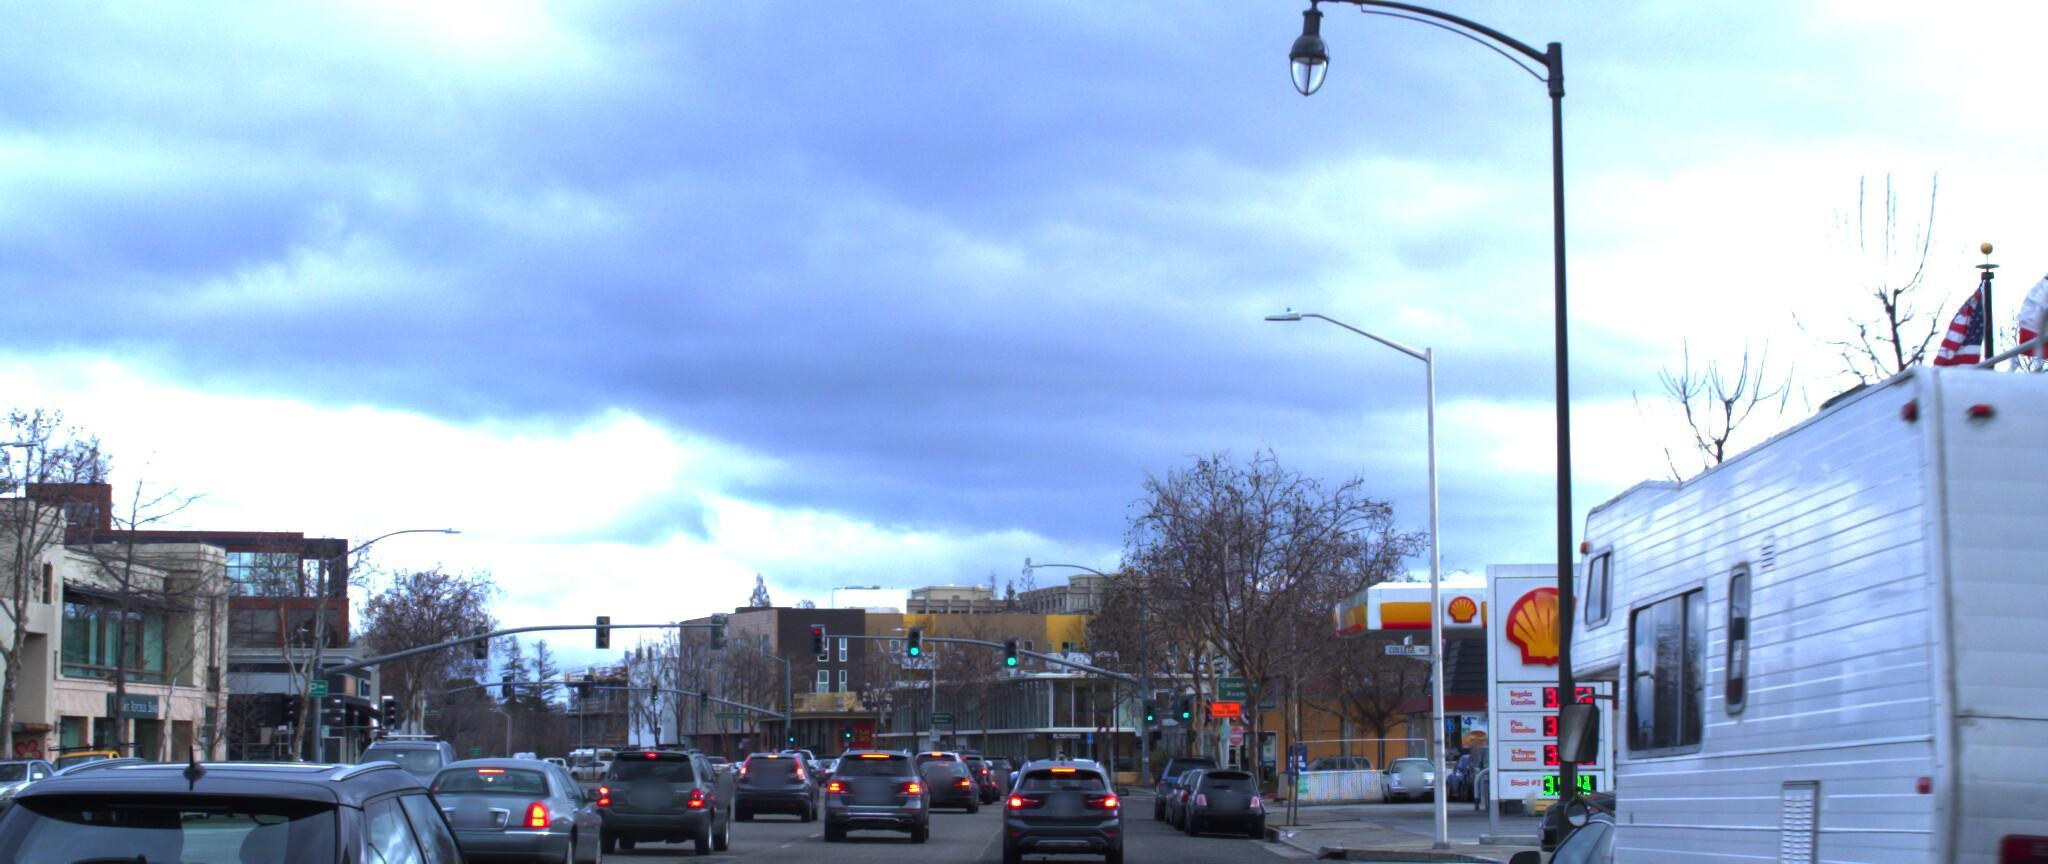car: (1509, 228, 2048, 864), (0, 744, 577, 864), (1451, 777, 1964, 864), (404, 747, 628, 864), (324, 717, 472, 834), (589, 733, 725, 846), (999, 758, 1125, 864), (24, 724, 159, 809), (818, 740, 921, 837), (737, 724, 827, 801), (1172, 747, 1260, 822), (0, 741, 80, 817)
